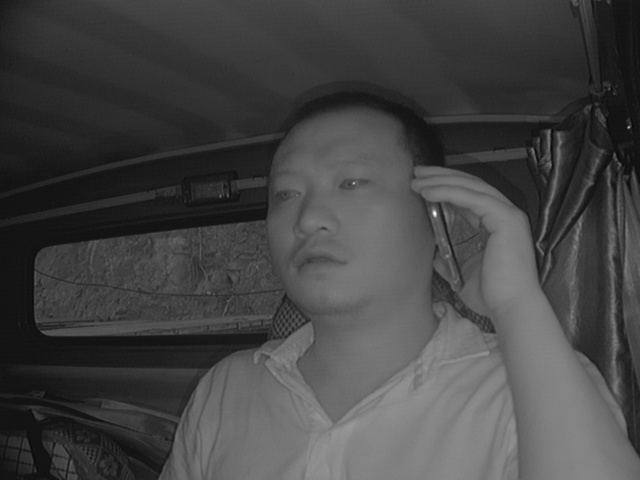hand: (408, 162, 530, 324)
